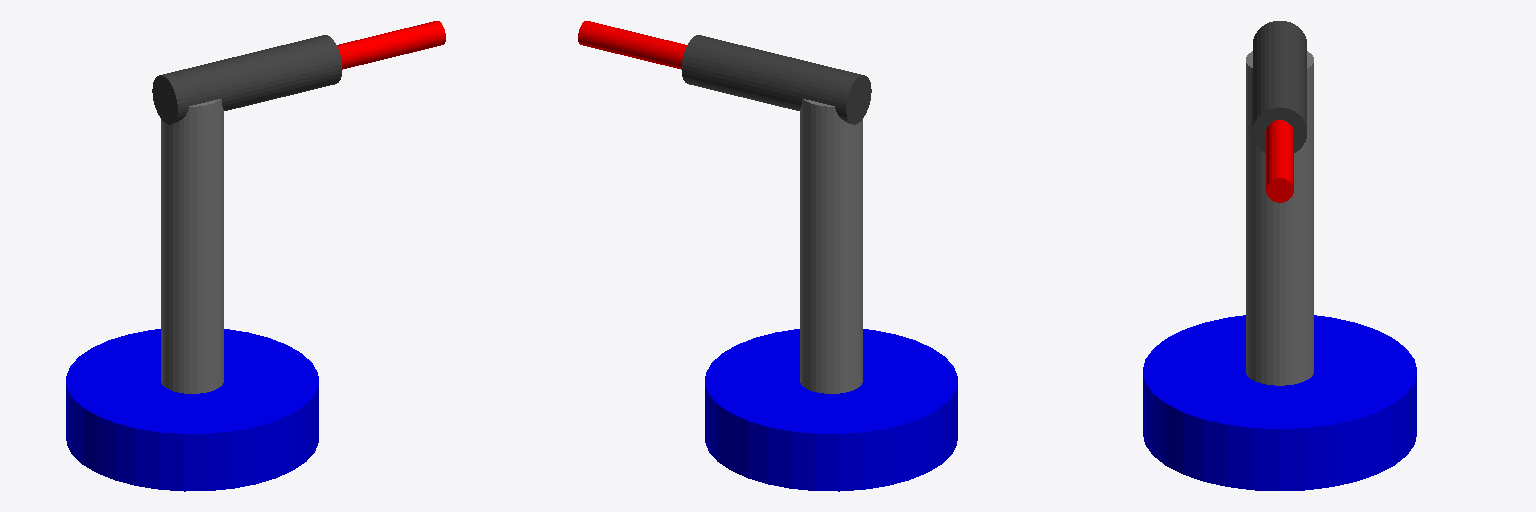
The robot description file, URDF, robot "rr_prismatic_robot":
<?xml version="1.0"?>
<robot name="rr_prismatic_robot">

  <!-- Base Link fixed to the ground -->
  <link name="base_link">
    <visual>
      <geometry>
        <cylinder length="0.1" radius="0.2"/>
      </geometry>
      <material name="blue">
        <color rgba="0 0 1 1"/>
      </material>
    </visual>
  </link>

  <!-- Joint 1: Revolute (Rotation around Z) -->
  <joint name="joint1" type="revolute">
    <parent link="base_link"/>
    <child link="link1"/>
    <origin xyz="0 0 0.05" rpy="0 0 0"/>
    <axis xyz="0 0 1"/>
    <limit lower="-3.14" upper="3.14" effort="100" velocity="1.0"/>
  </joint>

  <!-- Link 1: Vertical Pillar -->
  <link name="link1">
    <visual>
      <origin xyz="0 0 0.25" rpy="0 0 0"/>
      <geometry>
        <cylinder length="0.5" radius="0.05"/>
      </geometry>
      <material name="grey">
        <color rgba="0.5 0.5 0.5 1"/>
      </material>
    </visual>
  </link>

  <!-- Joint 2: Revolute (Rotation around Y) -->
  <joint name="joint2" type="revolute">
    <parent link="link1"/>
    <child link="link2"/>
    <origin xyz="0 0 0.5" rpy="0 0 0"/>
    <axis xyz="0 1 0"/>
    <limit lower="-1.57" upper="1.57" effort="100" velocity="1.0"/>
  </joint>

  <!-- Link 2: Horizontal Housing for the Slide -->
  <link name="link2">
    <visual>
      <origin xyz="0.1 0 0" rpy="0 1.57 0"/>
      <geometry>
        <cylinder length="0.3" radius="0.04"/>
      </geometry>
      <material name="dark_grey">
        <color rgba="0.3 0.3 0.3 1"/>
      </material>
    </visual>
  </link>

  <!-- Joint 3: Prismatic (Linear Extension along X) -->
  <joint name="joint3" type="prismatic">
    <parent link="link2"/>
    <child link="ee_link"/>
    <!-- Starts at the end of Link 2 -->
    <origin xyz="0.25 0 0" rpy="0 0 0"/> 
    <!-- Moves along the X axis -->
    <axis xyz="1 0 0"/>
    <!-- Slide limits in meters (Translates from 0cm to 30cm) -->
    <limit lower="0.0" upper="0.3" effort="50.0" velocity="0.2"/>
  </joint>

  <!-- End Effector Link: Sliding Rod -->
  <link name="ee_link">
    <visual>
      <origin xyz="0.1 0 0" rpy="0 1.57 0"/>
      <geometry>
        <cylinder length="0.2" radius="0.02"/>
      </geometry>
      <material name="red">
        <color rgba="1 0 0 1"/>
      </material>
    </visual>
  </link>

</robot>

--- Facts derived from the render (not from the file) ---
Views: 3 orthographic renders of the robot side by side, from view 1: azimuth 30°, elevation 25°; view 2: azimuth 150°, elevation 25°; view 3: azimuth 270°, elevation 25°.
Robot: rr_prismatic_robot — 4 links, 3 joints (2 revolute, 1 prismatic); root link base_link; default pose: all joints at 0.
Links seen in each view (by area): view 1: base_link, link1, link2, ee_link; view 2: base_link, link1, link2, ee_link; view 3: base_link, link1, link2, ee_link.
Boxes of the visible links, x1,y1,x2,y2 form: base_link: [66, 329, 318, 491]; link1: [161, 99, 223, 393]; link2: [152, 35, 341, 124]; ee_link: [337, 21, 445, 69]; base_link: [705, 329, 957, 491]; link1: [800, 99, 862, 393]; link2: [682, 35, 871, 124]; ee_link: [578, 21, 686, 69]; base_link: [1143, 315, 1416, 490]; link1: [1246, 51, 1313, 385]; link2: [1253, 21, 1306, 152]; ee_link: [1266, 120, 1293, 202].
Size in the robot's own frame: 0.65 by 0.4 by 0.6401 metres.
Geometry: primitives only (box / cylinder / sphere), no mesh files.
